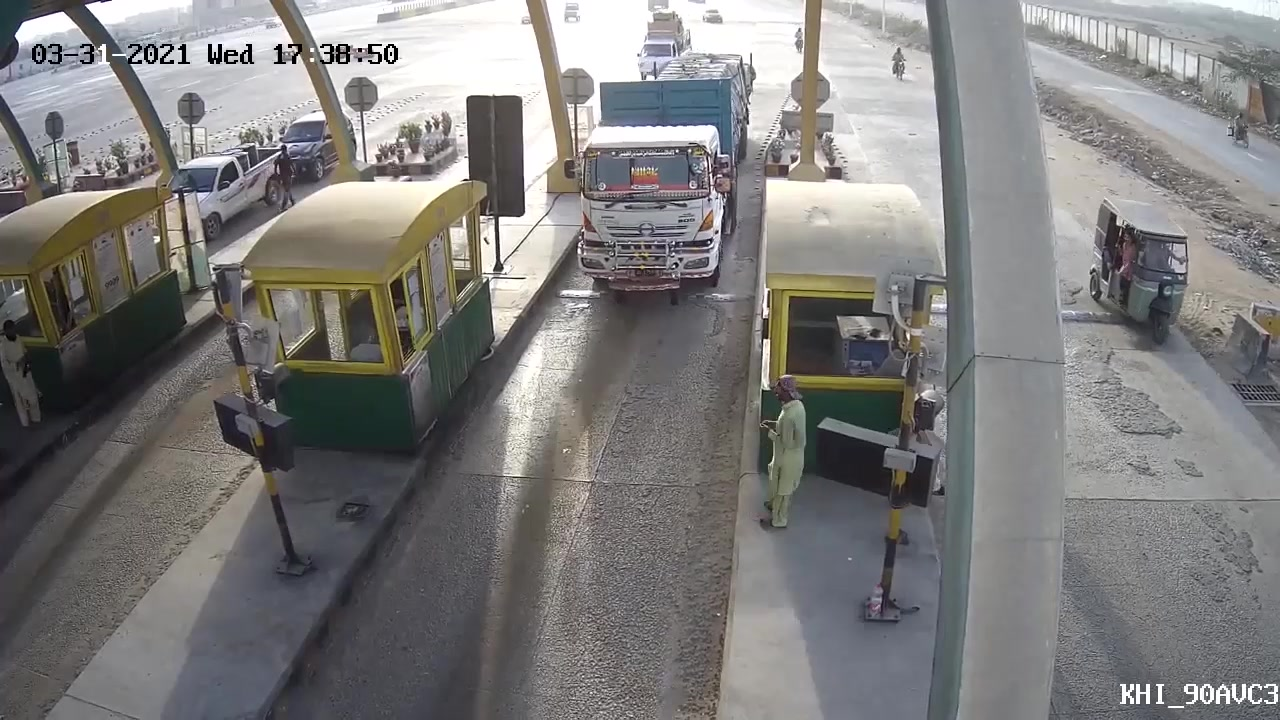F6: (565, 75, 752, 308)
